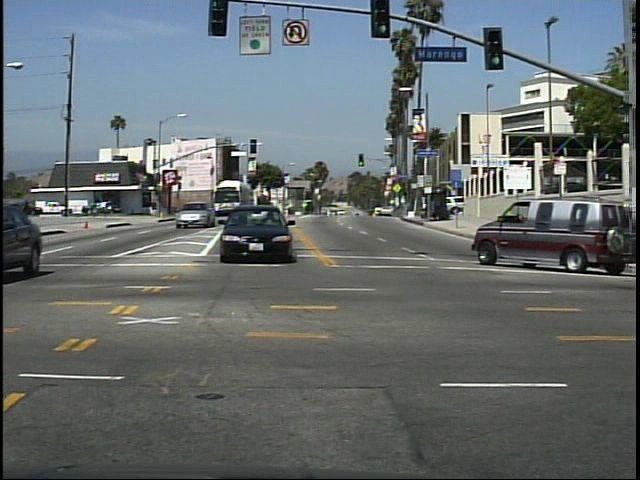person: (19, 195, 36, 224)
